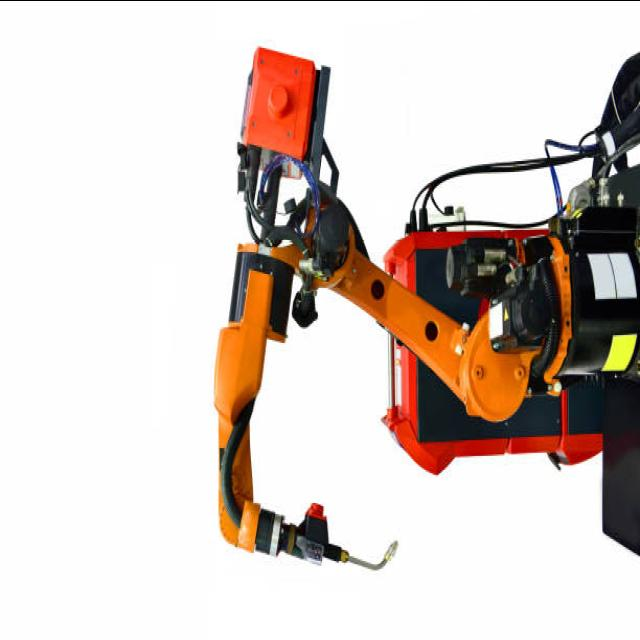Robotic-arm: (193, 7, 568, 599)
